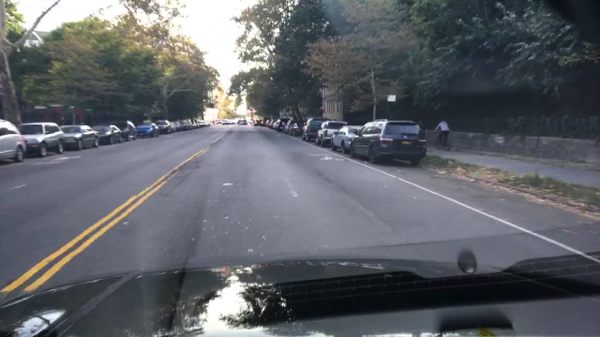bike: (433, 127, 453, 151)
car: (349, 119, 427, 165), (19, 122, 63, 157), (0, 118, 27, 162), (59, 125, 98, 150), (330, 125, 362, 154), (315, 121, 348, 147), (301, 118, 330, 142), (92, 124, 123, 146), (111, 120, 137, 140), (136, 122, 159, 137), (286, 119, 306, 136), (153, 121, 172, 134), (276, 118, 291, 132), (178, 120, 191, 130), (171, 122, 182, 131), (199, 120, 211, 127), (254, 118, 263, 127), (239, 118, 248, 126), (187, 119, 194, 129), (195, 119, 201, 128), (264, 119, 270, 127), (270, 121, 276, 128), (222, 119, 228, 126), (192, 119, 196, 128), (249, 118, 254, 124), (233, 119, 237, 125), (229, 118, 233, 124), (217, 119, 221, 124)
rider: (435, 117, 451, 146)
traffic light: (250, 104, 253, 110)
traffic sign: (387, 94, 396, 103)
